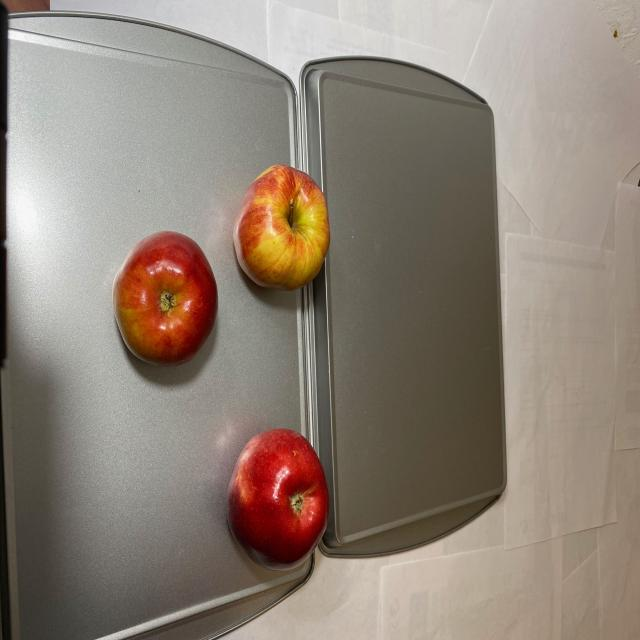apple: (112, 161, 331, 370), (225, 422, 328, 574)
